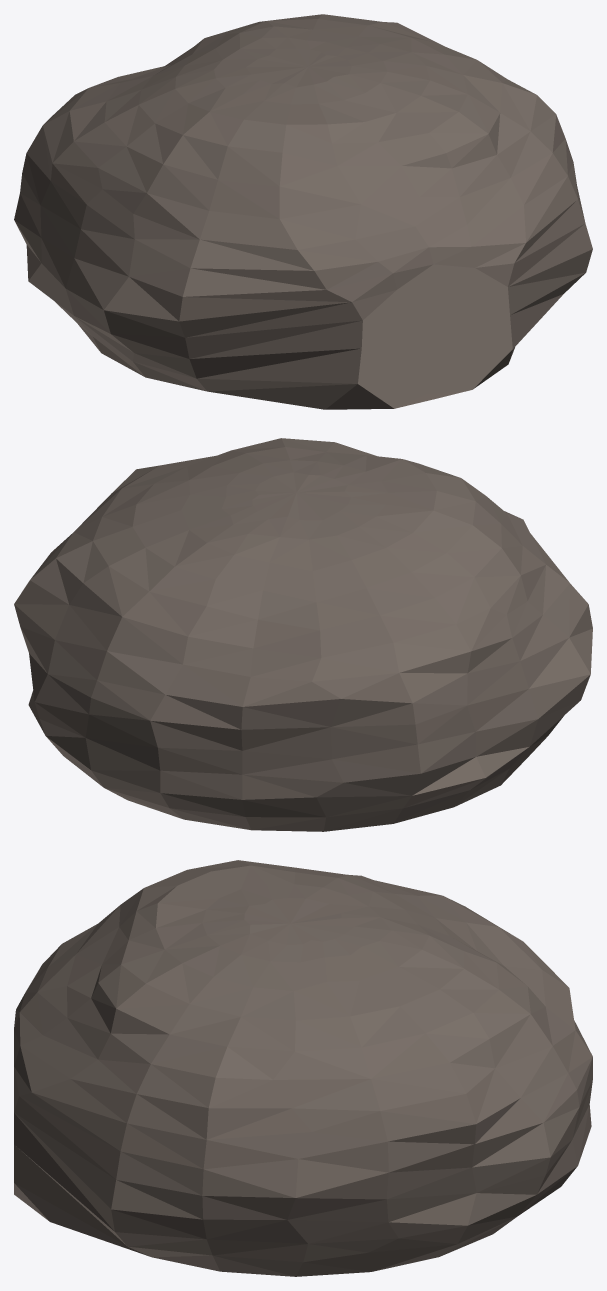
Rendered from Aumlot_Room_01.fbx.
3 views of the same model, one above another, from view 1: azimuth 30°, elevation 25°; view 2: azimuth 150°, elevation 25°; view 3: azimuth 270°, elevation 25° (orthographic). The views are drawn at different scales.
Parts seen in each view (by area): view 1: Aumlot_Room_01; view 2: Aumlot_Room_01; view 3: Aumlot_Room_01.
Part boxes in pixels (x1,y1,x2,y2): Aumlot_Room_01: [14, 14, 592, 409]; Aumlot_Room_01: [14, 438, 592, 831]; Aumlot_Room_01: [14, 860, 592, 1276].
Size of the model in its own units: 30.91 by 14.7 by 30.
